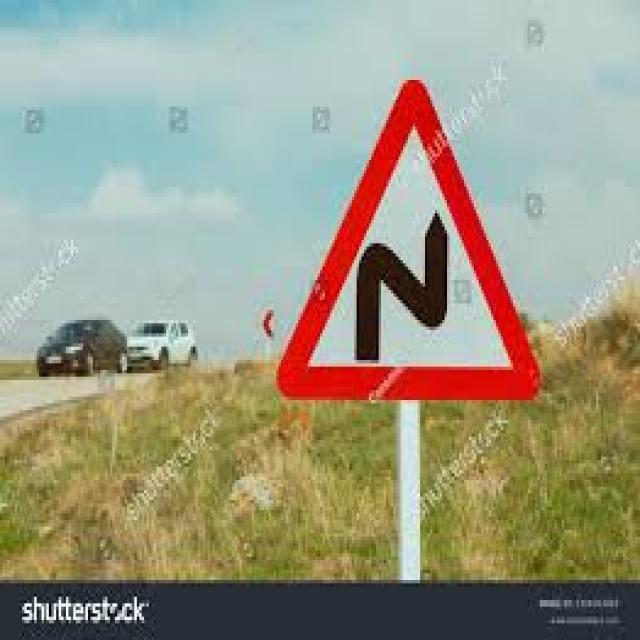right reverse bend: (274, 80, 541, 399)
